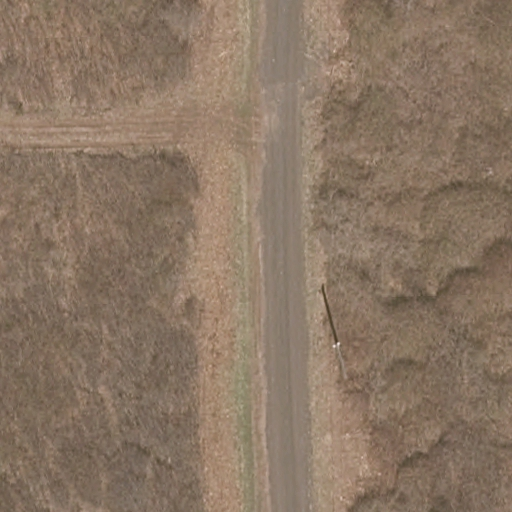DT: (331, 340, 350, 387)
